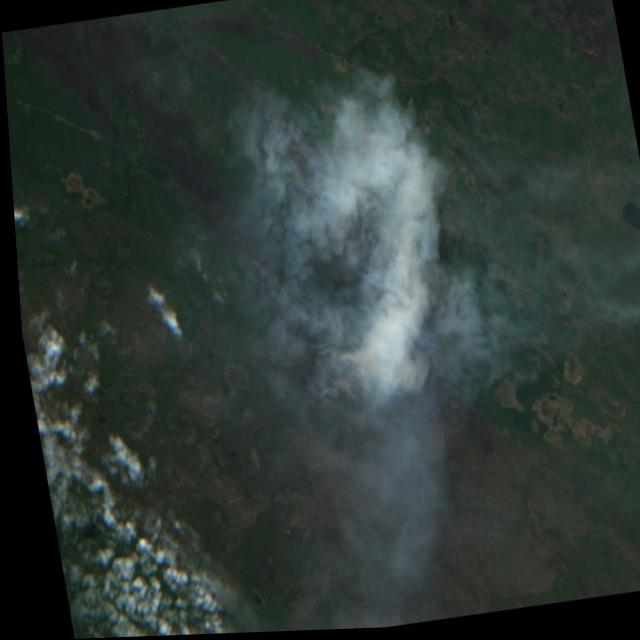fire: (279, 332, 376, 418)
